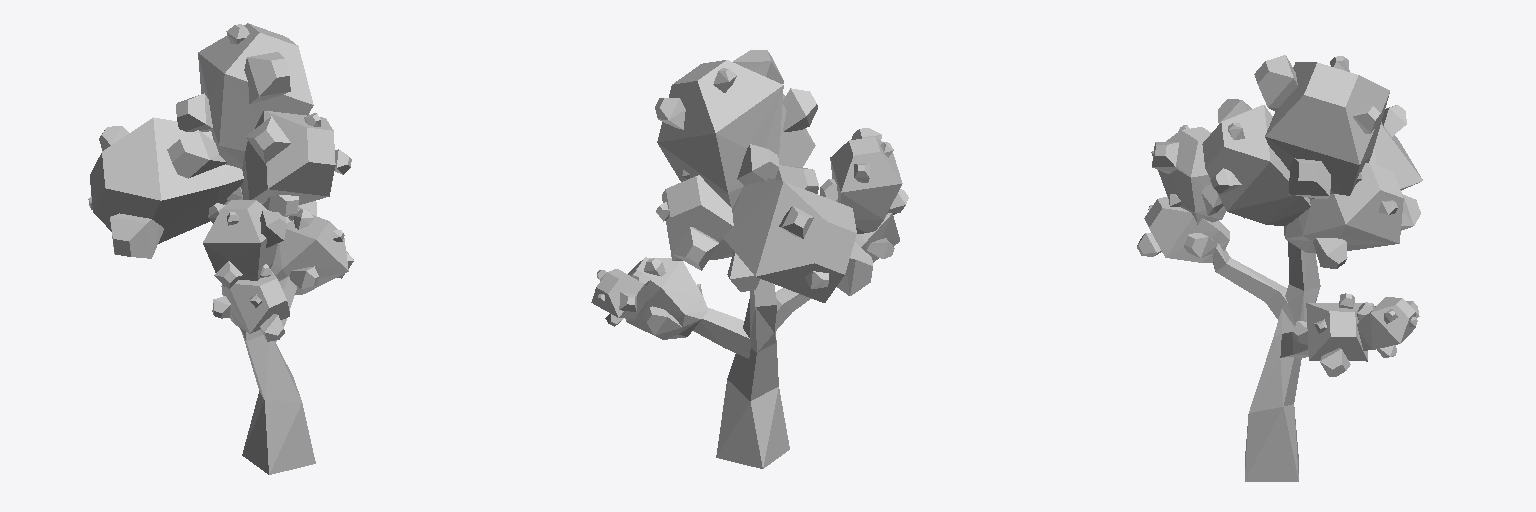
File: Arbol3.obj
3 views of the same model, side by side, from view 1: azimuth 30°, elevation 25°; view 2: azimuth 150°, elevation 25°; view 3: azimuth 270°, elevation 25° (orthographic).
Parts seen in each view (by area): view 1: pasted__tree_obj_Mesh group39; view 2: pasted__tree_obj_Mesh group39; view 3: pasted__tree_obj_Mesh group39.
Part boxes in pixels (bbox=[...]): pasted__tree_obj_Mesh group39: bbox=[88, 23, 353, 474]; pasted__tree_obj_Mesh group39: bbox=[591, 50, 908, 468]; pasted__tree_obj_Mesh group39: bbox=[1137, 55, 1422, 481].
Bounding box in the file's own units: 6.04 × 9.53 × 6.04.